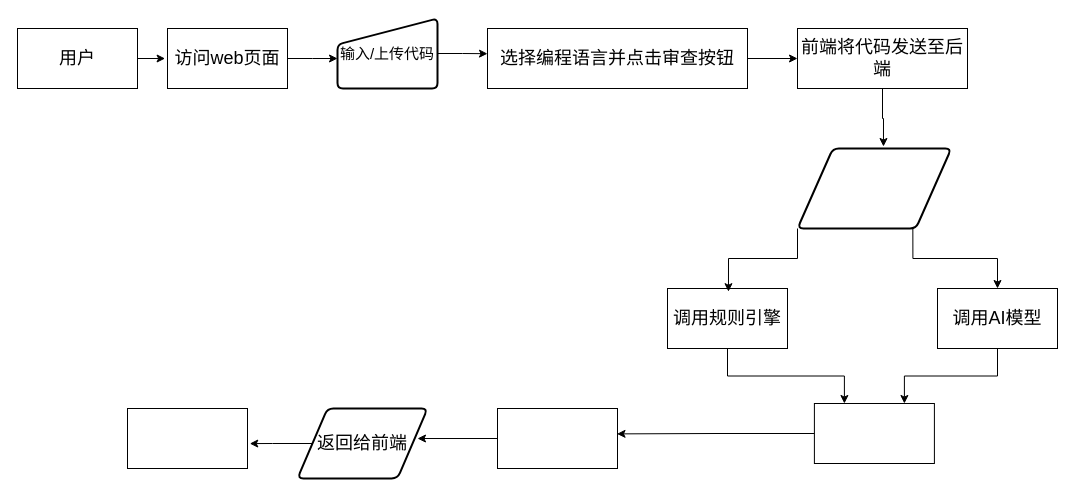
Some shapes in this 1075 by 496 pixel diagram are drawn without their labels. The shapes that lost their labels are listed below. From the top down, each one's centre as x and y in pixels, then its label:
At (x=874, y=188): "后端接收代码".
At (x=187, y=438): "前端展示给用户".
At (x=557, y=438): "生成审查报告".
At (x=873, y=433): "结果整合与格式化".
